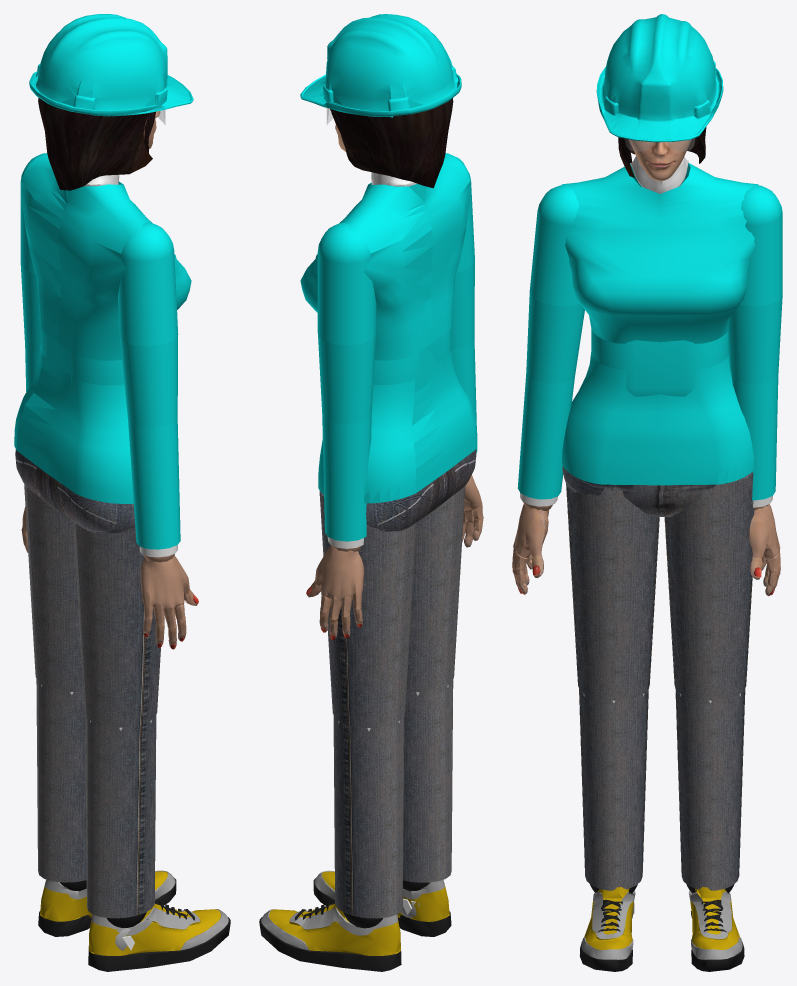
Rendered from Human_lpgfii.glb.
3 renders of one model, left to right at view 1: azimuth 30°, elevation 25°; view 2: azimuth 150°, elevation 25°; view 3: azimuth 270°, elevation 25°, orthographic.
Visible parts, largest first — view 1: Mesh [087g], Mesh [090g], Mesh [092g], Mesh [086g], Mesh [08rg], Mesh [0A3g], Mesh [0A1g], Mesh [08zg], Mesh [08Bg], Mesh [088g], Mesh [08Ag], Mesh [084g] (+11 smaller); view 2: Mesh [087g], Mesh [0A3g], Mesh [0A1g], Mesh [08rg], Mesh [086g], Mesh [092g], Mesh [090g], Mesh [08zg], Mesh [08Xg], Mesh [08Ug], Mesh [08Wg], Mesh [0AIg] (+12 smaller); view 3: Mesh [087g], Mesh [086g], Mesh [0A1g], Mesh [090g], Mesh [08rg], Mesh [0A3g], Mesh [092g], Mesh [085g], Mesh [08Bg], Mesh [08Ag], Mesh [08Wg], Mesh [08Xg] (+18 smaller).
Part boxes in pixels (bbox=[...]): Mesh [087g]: bbox=[21, 155, 191, 360]; Mesh [090g]: bbox=[73, 522, 160, 727]; Mesh [092g]: bbox=[85, 715, 156, 918]; Mesh [086g]: bbox=[14, 345, 133, 503]; Mesh [08rg]: bbox=[29, 14, 193, 116]; Mesh [0A3g]: bbox=[36, 679, 86, 882]; Mesh [0A1g]: bbox=[24, 484, 83, 691]; Mesh [08zg]: bbox=[38, 97, 155, 190]; Mesh [08Bg]: bbox=[128, 419, 180, 549]; Mesh [088g]: bbox=[118, 251, 178, 346]; Mesh [08Ag]: bbox=[120, 335, 177, 427]; Mesh [084g]: bbox=[15, 450, 135, 534]; Mesh [087g]: bbox=[300, 155, 470, 360]; Mesh [0A3g]: bbox=[333, 716, 404, 918]; Mesh [0A1g]: bbox=[319, 491, 416, 727]; Mesh [08rg]: bbox=[300, 14, 461, 117]; Mesh [086g]: bbox=[318, 345, 477, 503]; Mesh [092g]: bbox=[403, 680, 453, 882]; Mesh [090g]: bbox=[406, 486, 465, 692]; Mesh [08zg]: bbox=[330, 98, 453, 188]; Mesh [08Xg]: bbox=[322, 414, 371, 541]; Mesh [08Ug]: bbox=[317, 251, 376, 345]; Mesh [08Wg]: bbox=[318, 334, 375, 423]; Mesh [0AIg]: bbox=[269, 904, 400, 955]; Mesh [087g]: bbox=[561, 163, 758, 343]; Mesh [086g]: bbox=[562, 352, 753, 485]; Mesh [0A1g]: bbox=[664, 473, 754, 700]; Mesh [090g]: bbox=[566, 484, 659, 700]; Mesh [08rg]: bbox=[596, 14, 723, 142]; Mesh [0A3g]: bbox=[675, 688, 745, 890]; Mesh [092g]: bbox=[579, 688, 648, 890]; Mesh [085g]: bbox=[591, 329, 728, 396]; Mesh [08Bg]: bbox=[517, 372, 574, 499]; Mesh [08Ag]: bbox=[526, 292, 584, 383]; Mesh [08Wg]: bbox=[728, 295, 782, 384]; Mesh [08Xg]: bbox=[732, 374, 778, 500].
Bounding box in the file's own units: 0.3273 × 1.77 × 0.4743.
18 materials, 5 textured.
